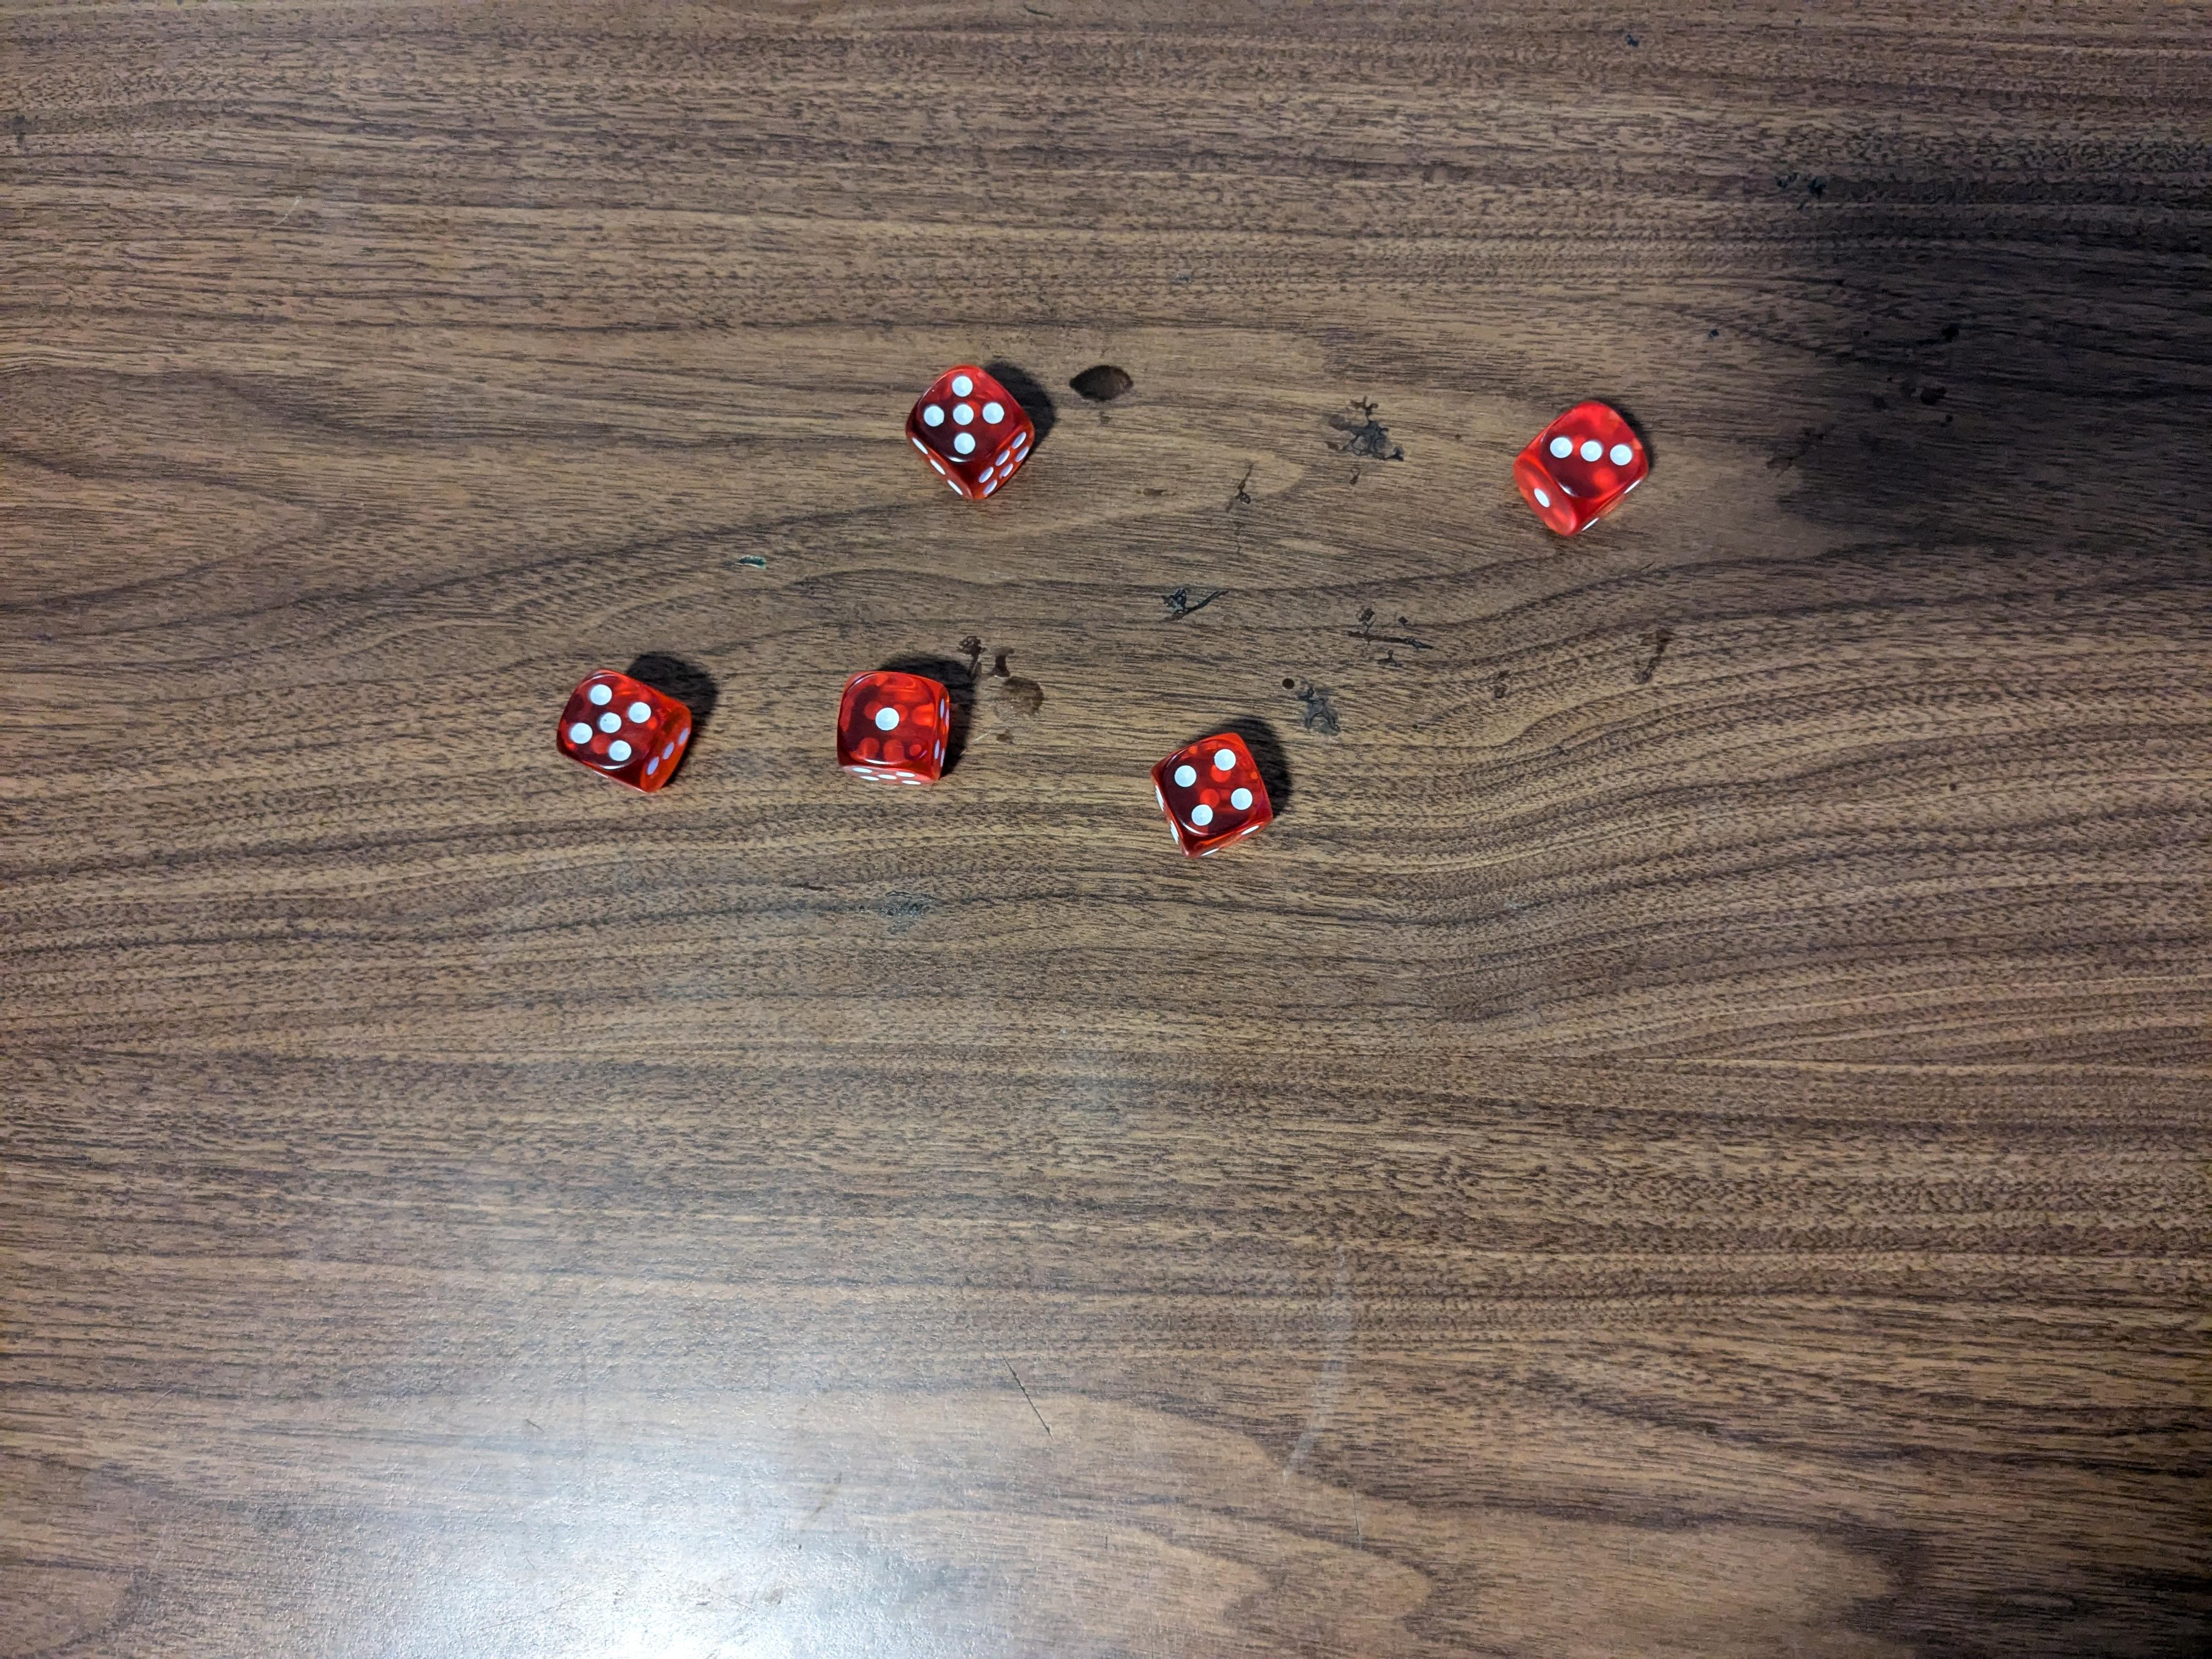five: (902, 361, 1038, 509), (550, 664, 693, 789)
four: (1151, 732, 1277, 859)
one: (838, 666, 954, 788)
three: (1514, 401, 1653, 537)
